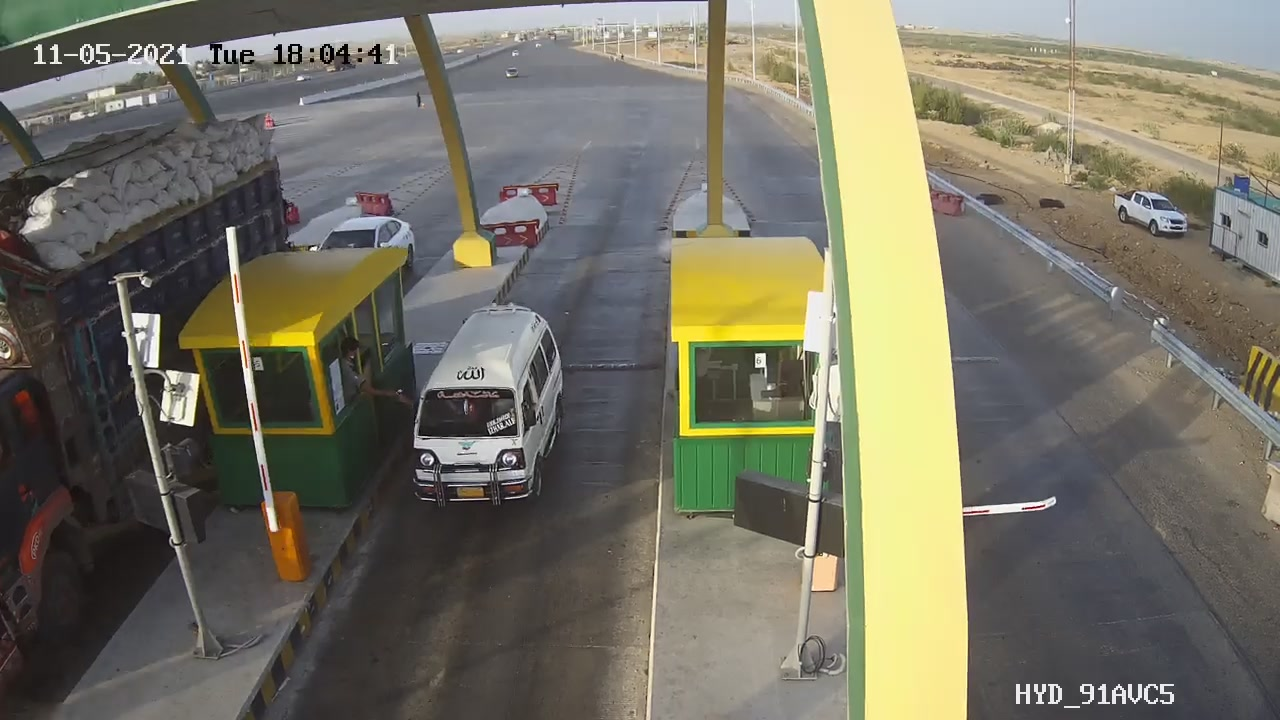F1: (396, 292, 582, 533)
